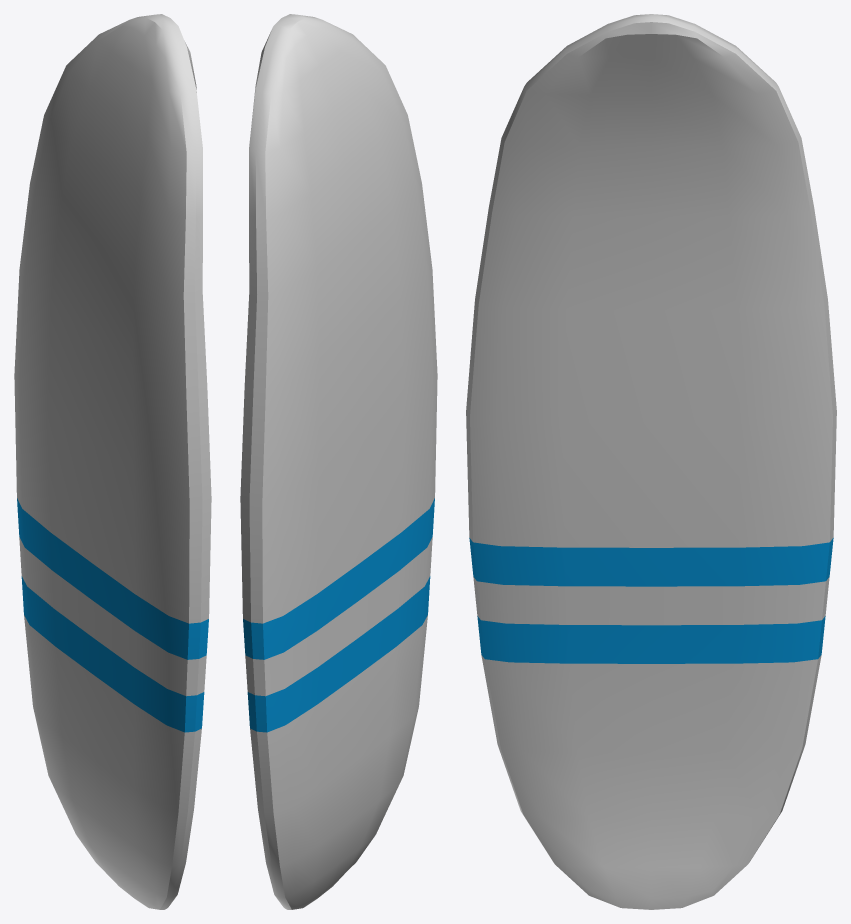
Rendered from Surf board.fbx.
3 views of the same model, side by side, from view 1: azimuth 30°, elevation 25°; view 2: azimuth 150°, elevation 25°; view 3: azimuth 270°, elevation 25° (orthographic). The views are drawn at different scales.
Parts seen in each view (by area): view 1: Cube; view 2: Cube; view 3: Cube.
Part boxes in pixels (x1,y1,x2,y2): Cube: (14,14,211,909); Cube: (240,14,437,909); Cube: (466,14,836,909).
Bounding box in the file's own units: 196 × 1996 × 741.
